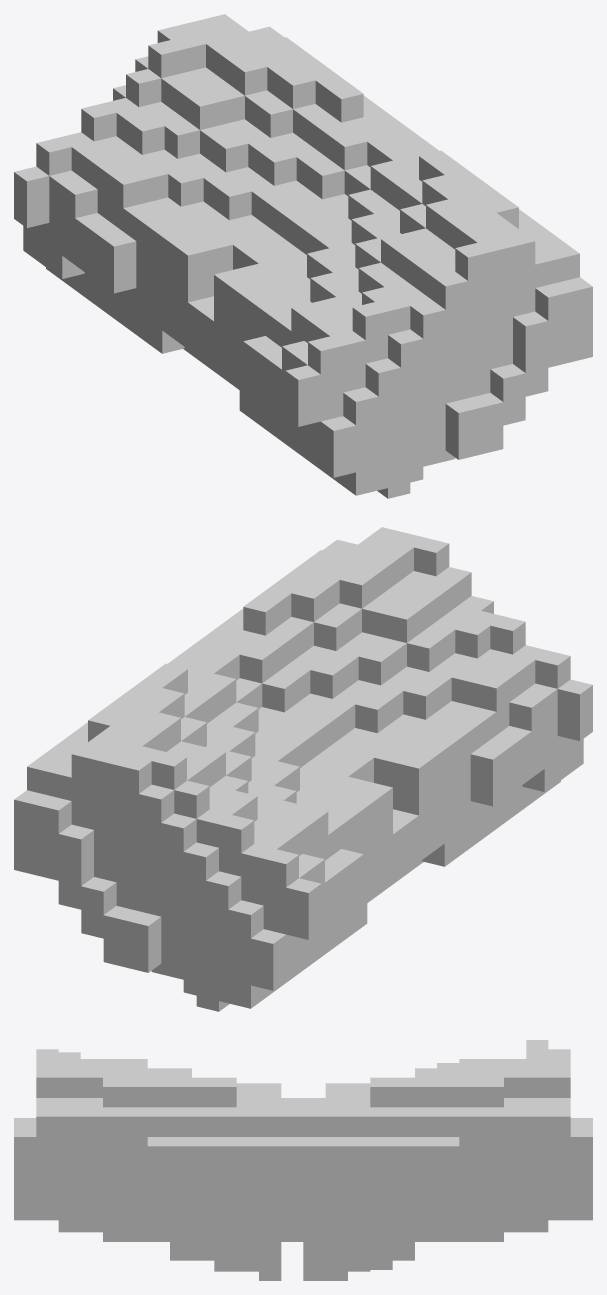
The model's file is goodnight-moon-7-asleep-pillow.obj.
The picture shows the model from 3 angles, top to bottom: view 1: azimuth 30°, elevation 25°; view 2: azimuth 150°, elevation 25°; view 3: azimuth 270°, elevation 25°; orthographic projection. The views are drawn at different scales.
Parts seen in each view (by area): view 1: asleep-pillow; view 2: asleep-pillow; view 3: asleep-pillow.
Part boxes in pixels (x1=…): asleep-pillow: x1=14, y1=14, x2=592, y2=498; asleep-pillow: x1=14, y1=527, x2=592, y2=1011; asleep-pillow: x1=14, y1=1040, x2=592, y2=1280.
Size of the model in its own units: 2.6 by 2.2 by 5.2.
1 material, 1 textured.
